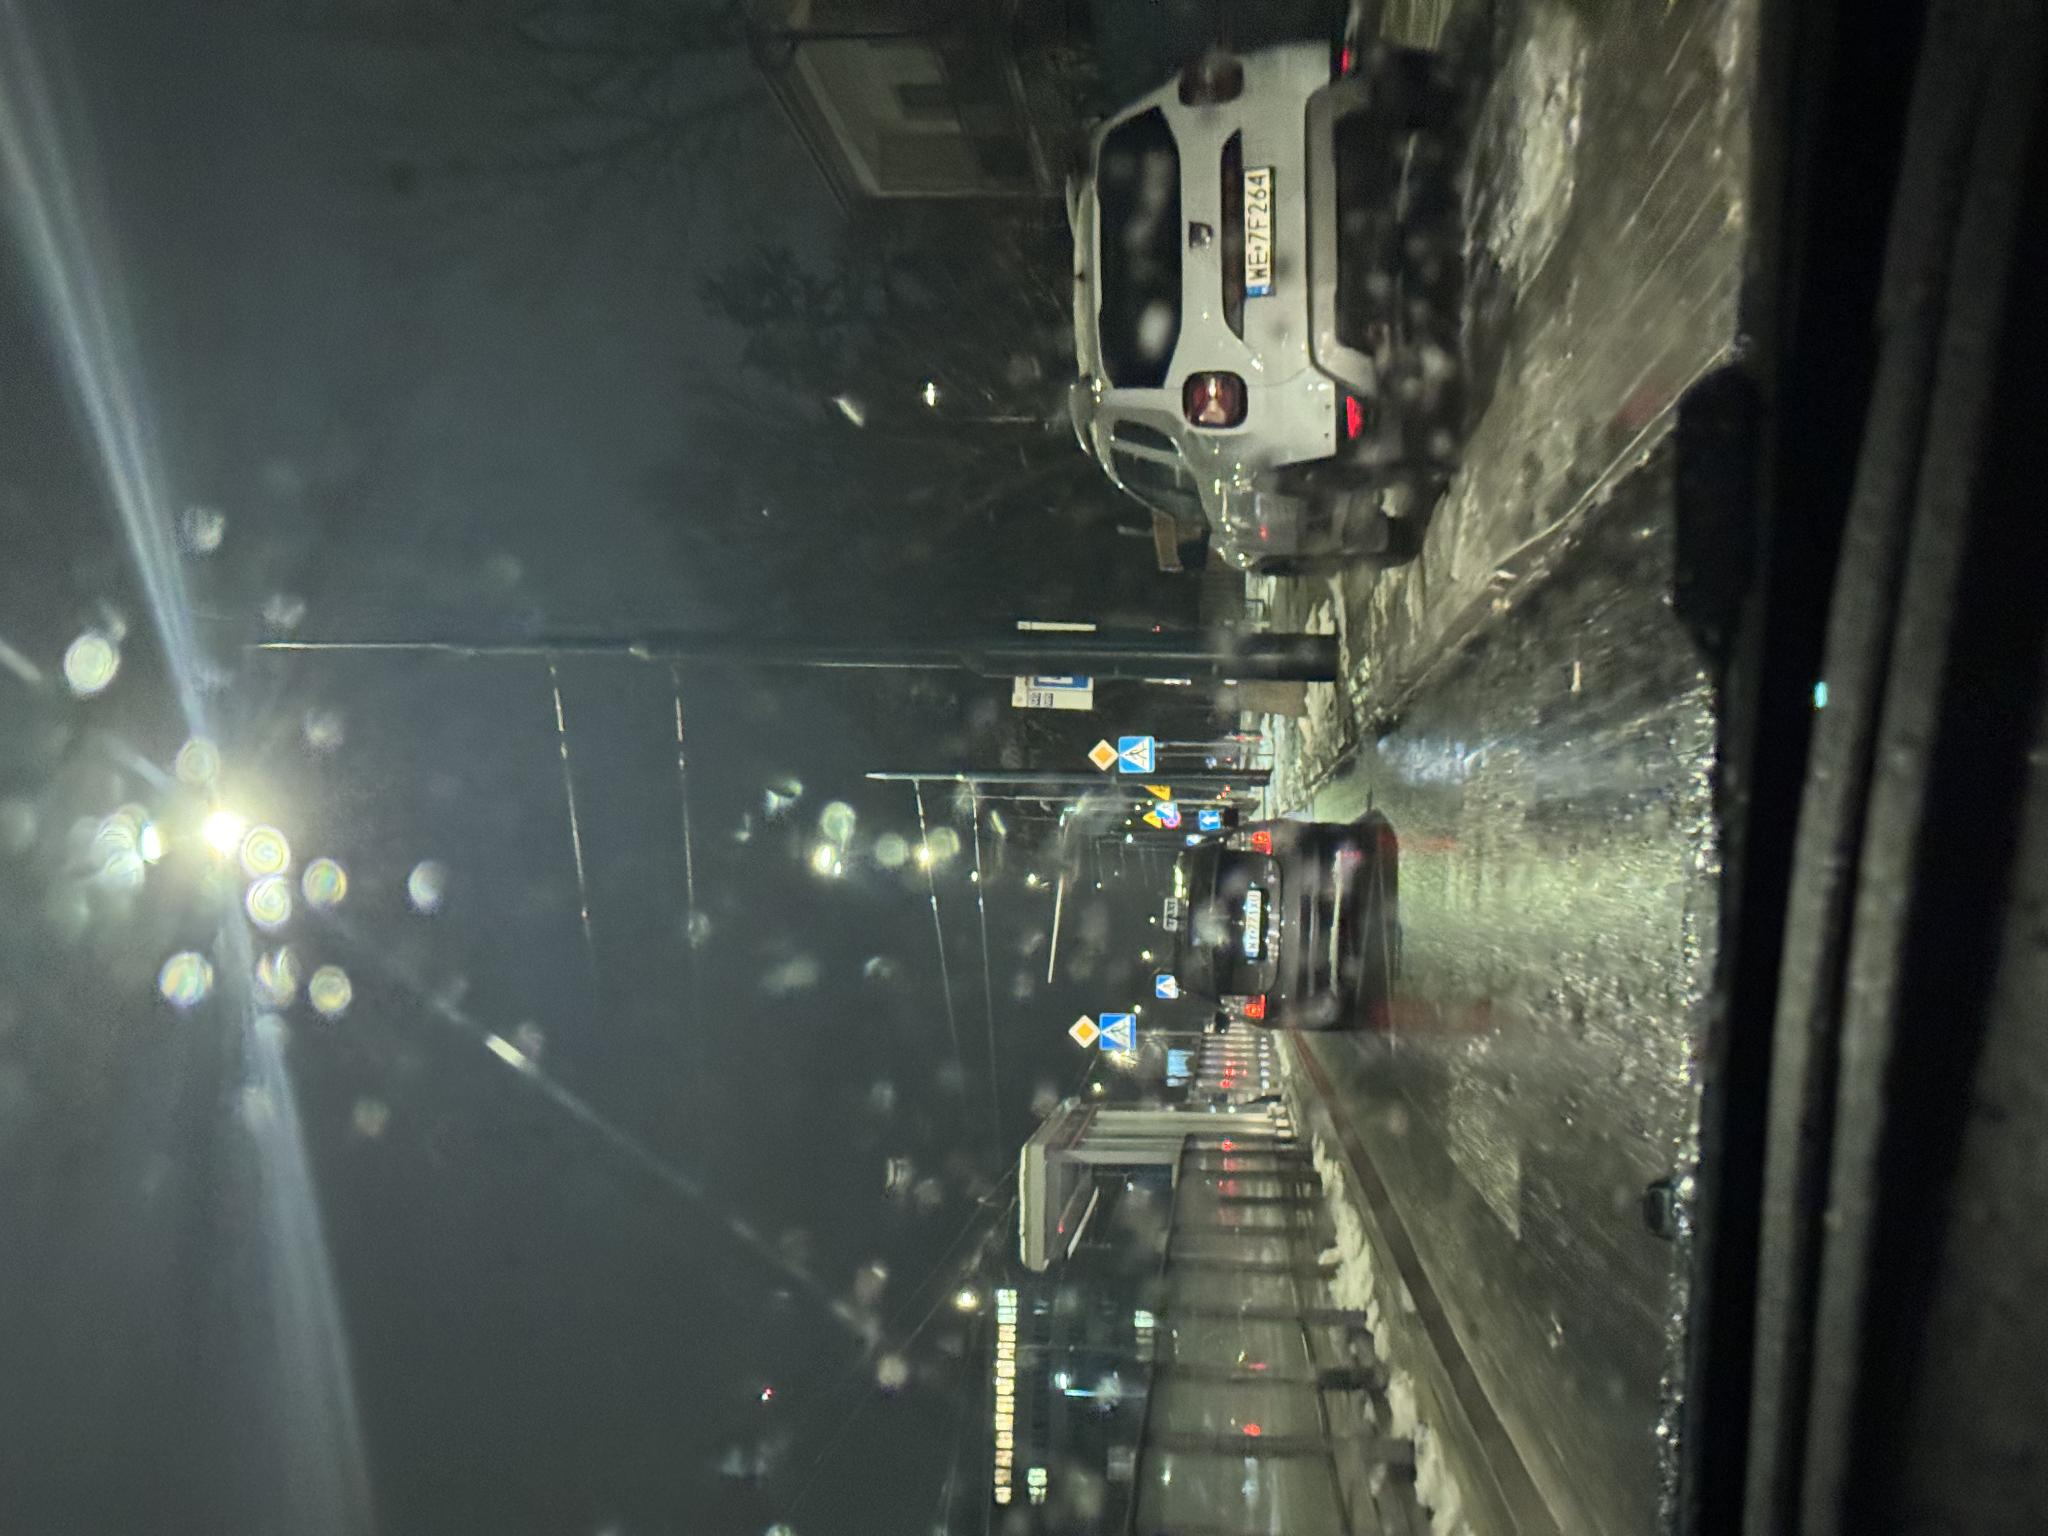information: (484, 1099, 524, 1136), (763, 1118, 801, 1155), (764, 1086, 798, 1118), (487, 1070, 522, 1100), (539, 1155, 563, 1179), (705, 1199, 729, 1220), (719, 1155, 735, 1176)
prohibitory: (708, 1162, 724, 1183)
warning: (735, 1144, 750, 1171), (708, 1142, 726, 1162)
